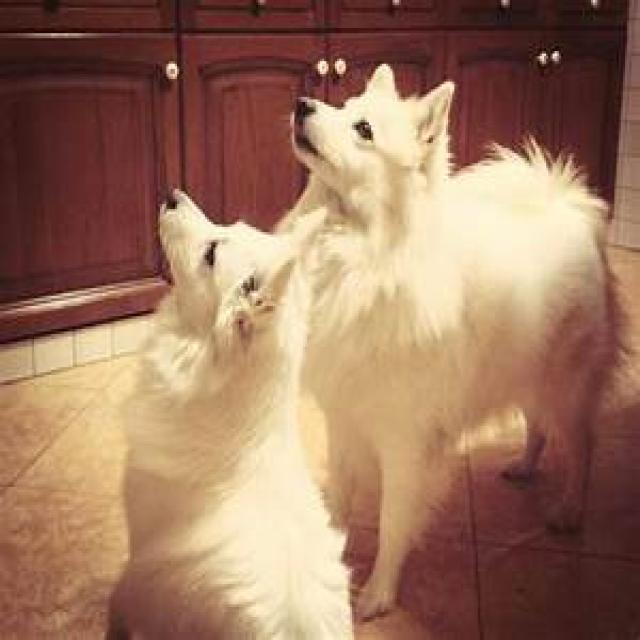KOPEK: (288, 61, 634, 608), (95, 196, 359, 640)
